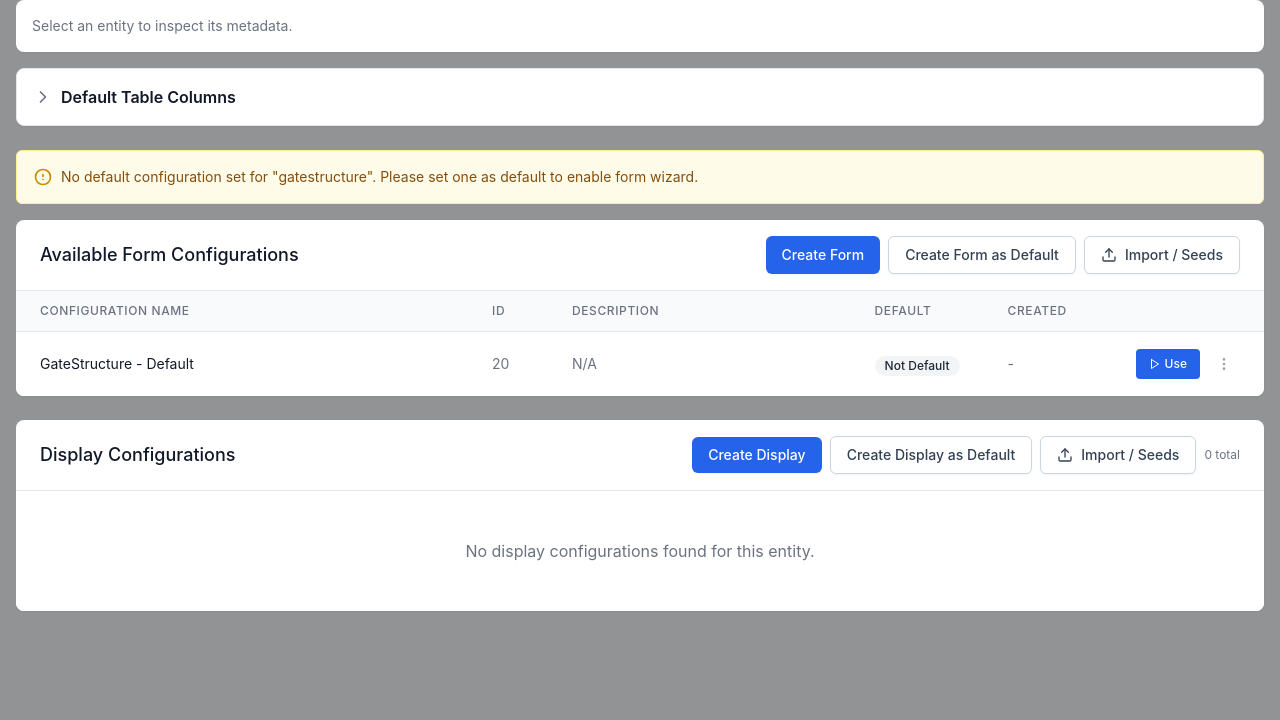
Scenario: FormWizardPage: delete a form configuration (KNG-172) › asks without the sentence when there are no drafts or they cannot be counted
The image size is (1280, 720).
Click the button named "More actions for GateStructure - Default": (1224, 364) [1208,348,1240,380]
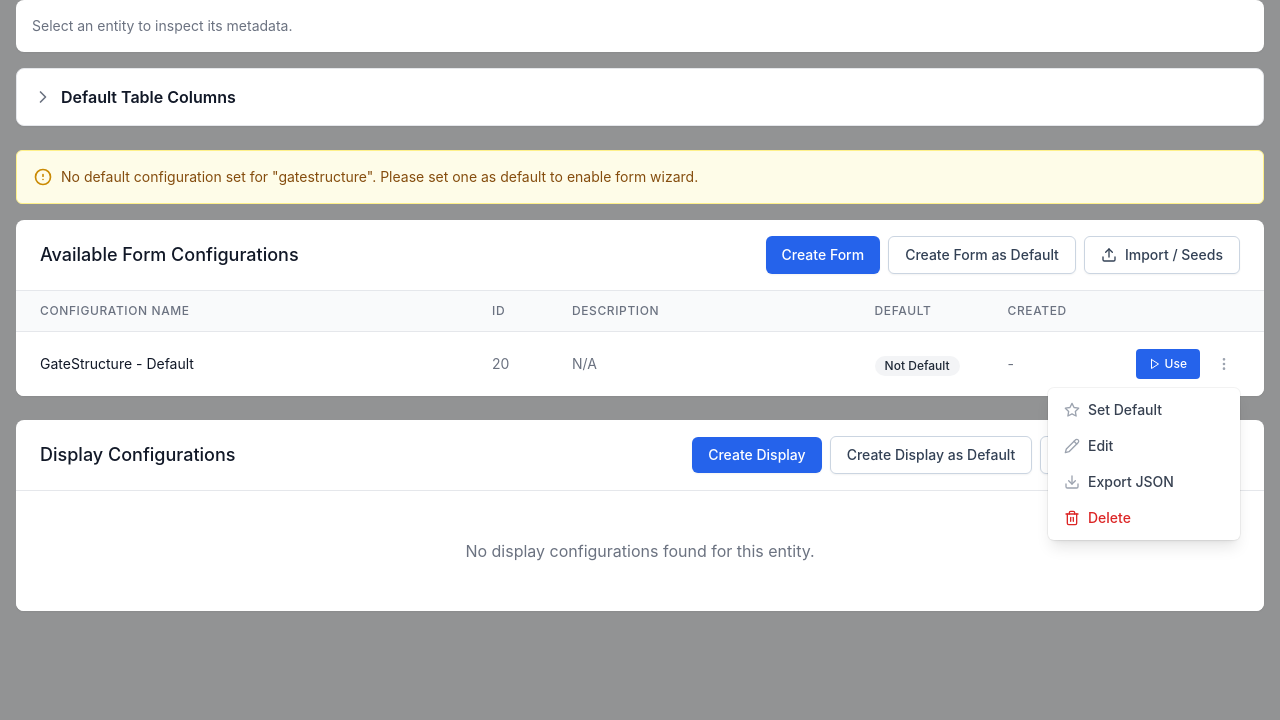
Click the menu item "Delete": (1144, 518) [1048,500,1240,536]
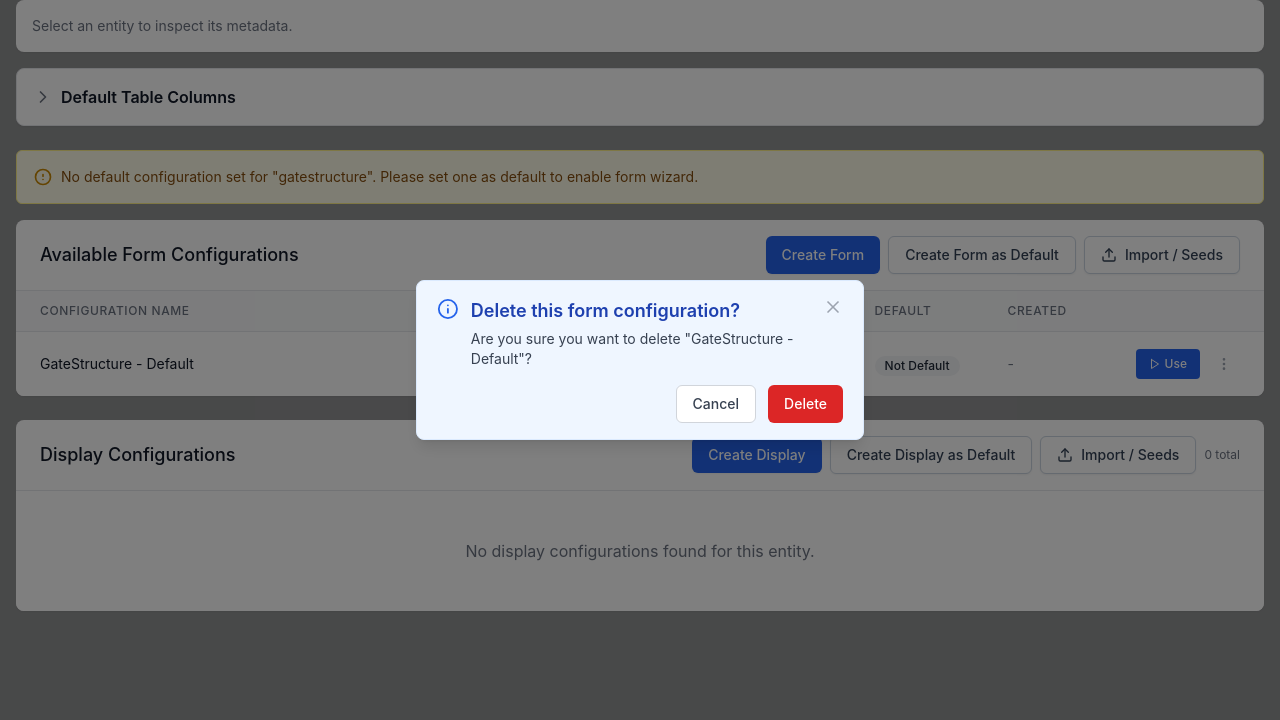
Check: the text "Are you sure you want to delete \"GateStructure - Default\"?" is shown, box [471,329,823,369]
Click the button "Cancel": (716, 404) [676,385,756,423]
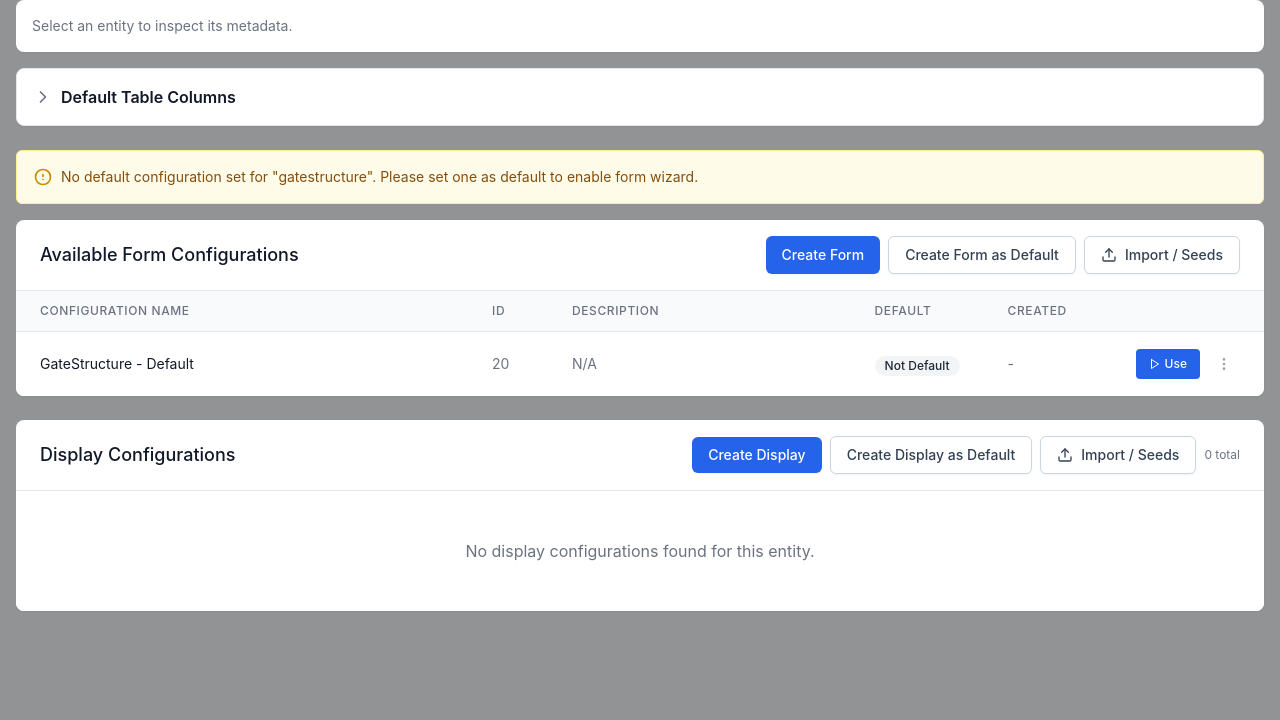
Check: the heading "Delete this form configuration?" is gone
